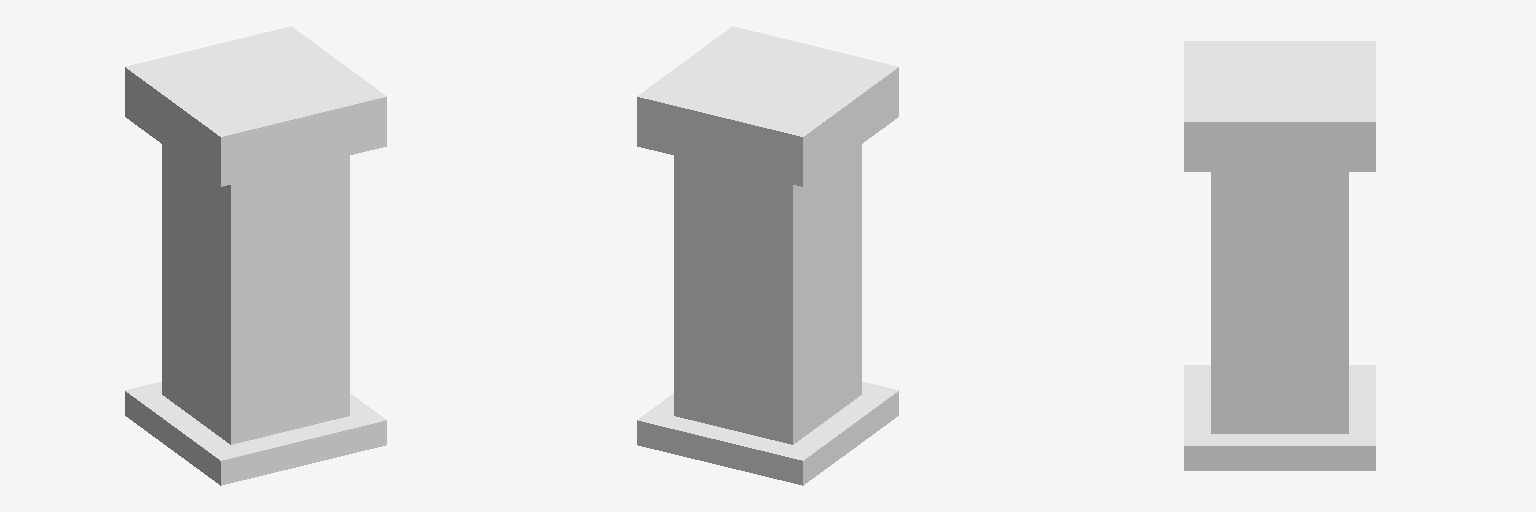
File: NormalPillar.obj
3 renders of one model, left to right at view 1: azimuth 30°, elevation 25°; view 2: azimuth 150°, elevation 25°; view 3: azimuth 270°, elevation 25°, orthographic.
Bounding box in the file's own units: 7 × 14 × 7.